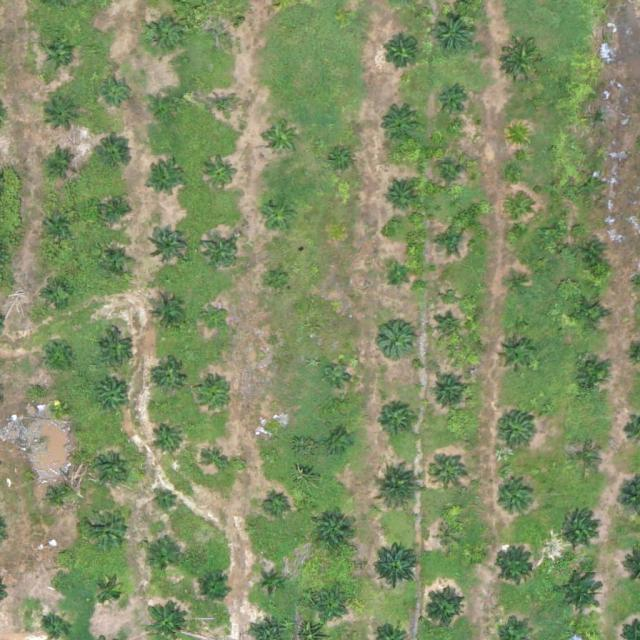Grass: (329, 432, 352, 456)
Small: (86, 502, 133, 550), (557, 570, 604, 618), (372, 467, 419, 514), (374, 538, 421, 585), (430, 9, 477, 56), (97, 330, 137, 370), (423, 590, 463, 630), (94, 138, 134, 178), (147, 162, 186, 202), (376, 319, 415, 359), (377, 398, 416, 438), (92, 450, 131, 490), (147, 295, 186, 335), (202, 233, 241, 273), (562, 510, 601, 550), (572, 357, 611, 397), (430, 452, 469, 492), (45, 95, 84, 135), (143, 15, 183, 54), (262, 120, 302, 159), (572, 295, 611, 335), (313, 513, 352, 552), (149, 223, 188, 262), (96, 380, 135, 419), (258, 197, 297, 236), (380, 106, 419, 145), (382, 33, 421, 72), (503, 42, 542, 81), (429, 372, 468, 411), (497, 547, 536, 586), (497, 337, 536, 376), (496, 412, 535, 451), (499, 481, 538, 520), (206, 158, 237, 190), (315, 592, 346, 624), (384, 182, 415, 214), (432, 226, 463, 258), (208, 92, 239, 124), (153, 91, 184, 123), (102, 76, 133, 108), (45, 40, 76, 72), (43, 338, 74, 369), (42, 278, 73, 309), (156, 360, 187, 391), (200, 380, 231, 411), (145, 545, 176, 576), (435, 88, 466, 119), (570, 444, 601, 475), (199, 574, 230, 605), (93, 580, 124, 611), (45, 480, 76, 511), (433, 315, 464, 346), (435, 160, 466, 191), (101, 195, 132, 226), (102, 247, 133, 278), (43, 207, 74, 238), (46, 148, 77, 179), (153, 425, 184, 456), (154, 489, 178, 513), (507, 124, 531, 148), (583, 242, 607, 266), (508, 200, 532, 224), (507, 275, 531, 299), (580, 174, 604, 198), (330, 150, 354, 174), (202, 308, 226, 332), (264, 422, 288, 446), (205, 449, 229, 473), (439, 525, 462, 549), (258, 571, 281, 595), (267, 494, 291, 517), (586, 107, 609, 131), (387, 265, 410, 289), (215, 14, 238, 38), (267, 269, 290, 292), (326, 363, 349, 386), (50, 401, 66, 417), (55, 548, 70, 563)
